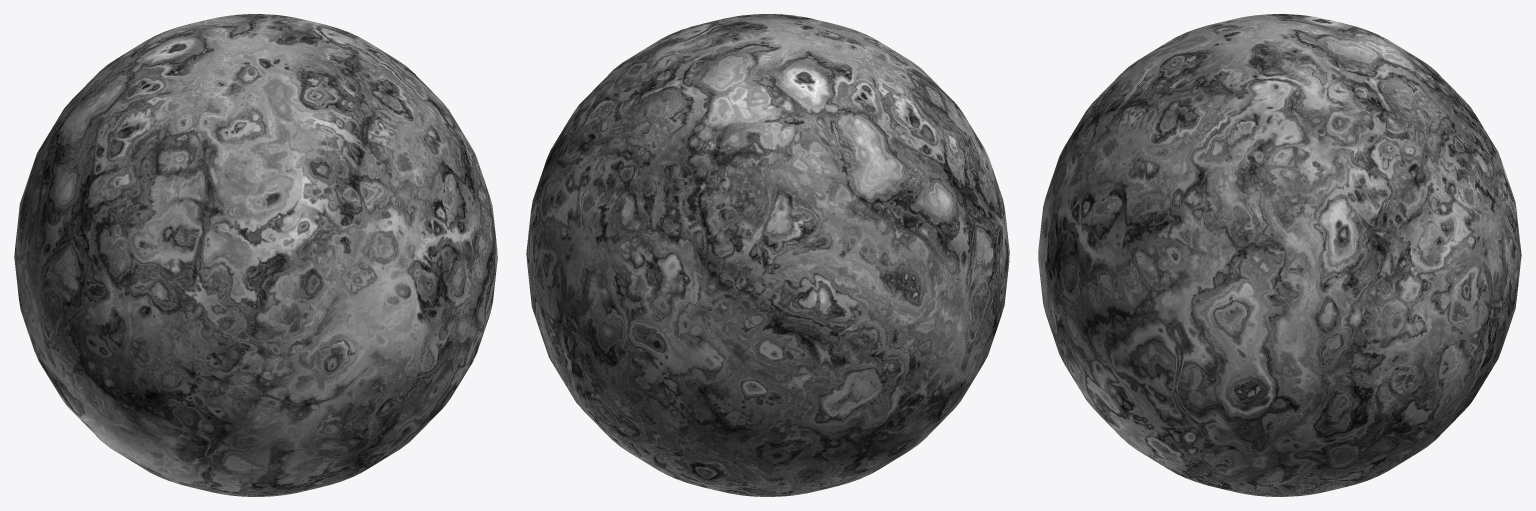
File: Gezegen.fbx
3 renders of one model, left to right at view 1: azimuth 30°, elevation 25°; view 2: azimuth 150°, elevation 25°; view 3: azimuth 270°, elevation 25°, orthographic.
Visible parts, largest first — view 1: gezegen01; view 2: gezegen01; view 3: gezegen01.
Part boxes in pixels (left/top/right/bottom): gezegen01: left=14, top=14, right=497, bottom=496; gezegen01: left=526, top=14, right=1009, bottom=496; gezegen01: left=1038, top=14, right=1521, bottom=496.
Size of the model in its own units: 200 by 200 by 200.
1 material, 1 textured.
